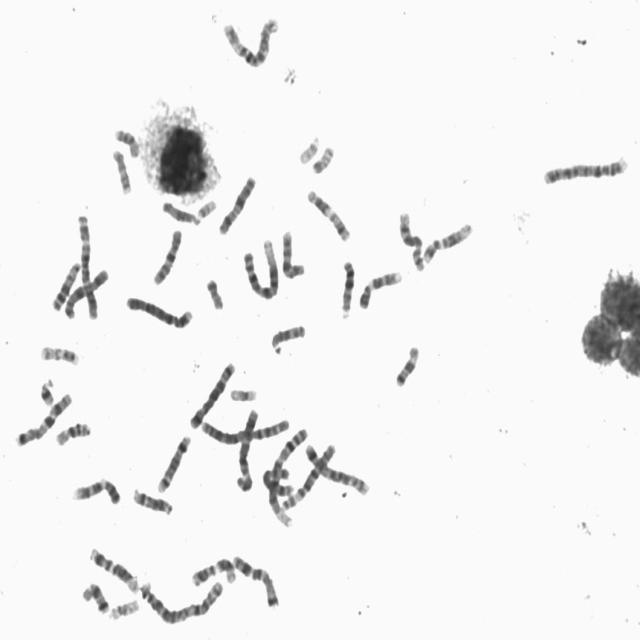A1: (264, 424, 310, 528), (240, 234, 280, 301)
A2: (137, 574, 226, 626), (197, 413, 292, 445)
A3: (74, 210, 99, 321), (233, 404, 260, 493)
B4: (540, 151, 630, 187), (123, 291, 195, 331)
B5: (302, 439, 372, 497), (187, 357, 237, 431)
C10: (150, 225, 184, 287), (279, 226, 307, 280)
C11: (304, 186, 352, 243), (188, 555, 238, 588)
C12: (86, 544, 140, 594), (420, 217, 475, 265)
C6: (278, 438, 338, 512), (220, 13, 280, 69)
C7: (12, 388, 74, 448), (229, 550, 280, 610)
C8: (396, 207, 427, 273), (259, 465, 295, 497)
C9: (356, 266, 404, 310), (69, 474, 122, 506)
D13: (48, 257, 83, 313), (337, 256, 357, 319)
D14: (154, 430, 192, 495), (130, 484, 175, 516)
D15: (268, 320, 307, 356), (159, 198, 203, 226)
E16: (52, 418, 92, 448), (113, 126, 141, 159)
E17: (109, 144, 133, 196), (37, 341, 80, 366)
E18: (389, 342, 424, 388), (80, 578, 110, 616)
F19: (227, 384, 258, 403), (197, 197, 221, 220)
F20: (203, 274, 225, 312), (310, 145, 336, 174)
G21: (37, 374, 56, 408)
G22: (106, 594, 140, 622), (295, 131, 321, 165)
X: (215, 171, 258, 237), (61, 264, 110, 319)
